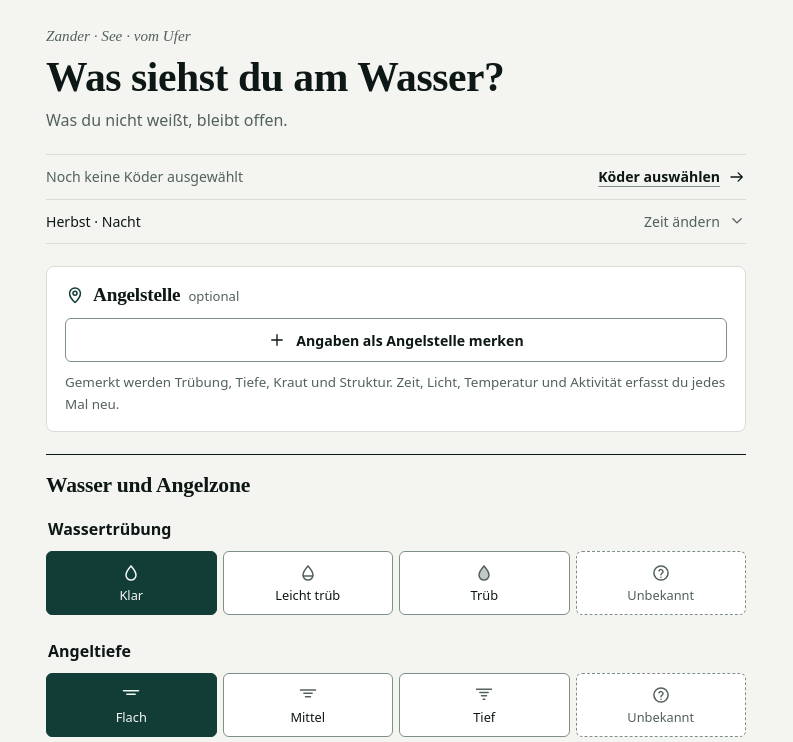
it: Geführter Angelplan › führt ohne Bestand von den Bedingungen zur passenden Köderauswahl und erhält den Entwurf
This screenshot has width=793, height=742.
Expected: the text "Noch keine Köder ausgewählt" is shown, [46,166,243,187]
Click the button "Tief" at point(484, 705), box [399,673,570,737]
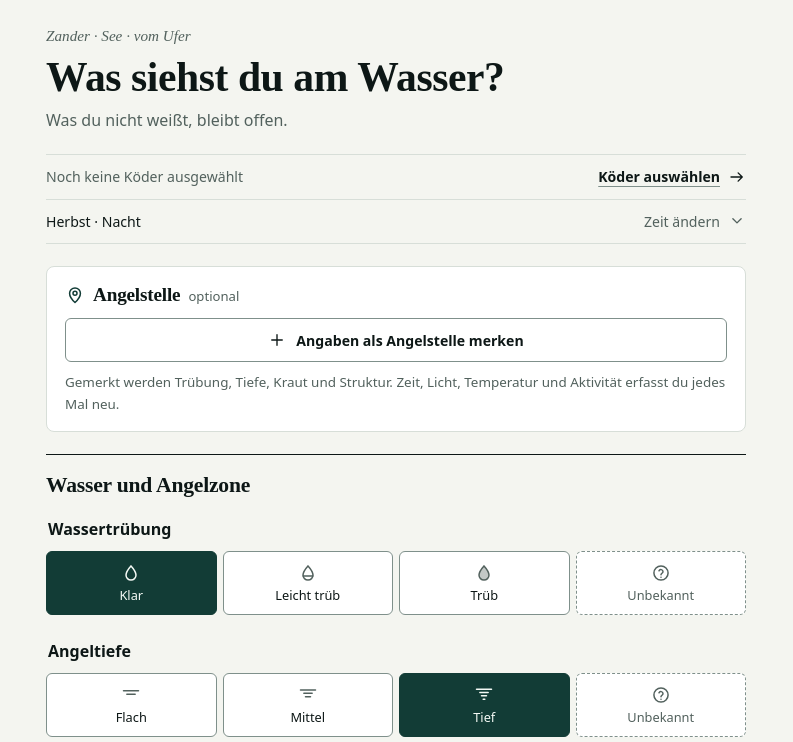
Click the link "Köder auswählen" at point(672, 177), box [598,167,746,186]
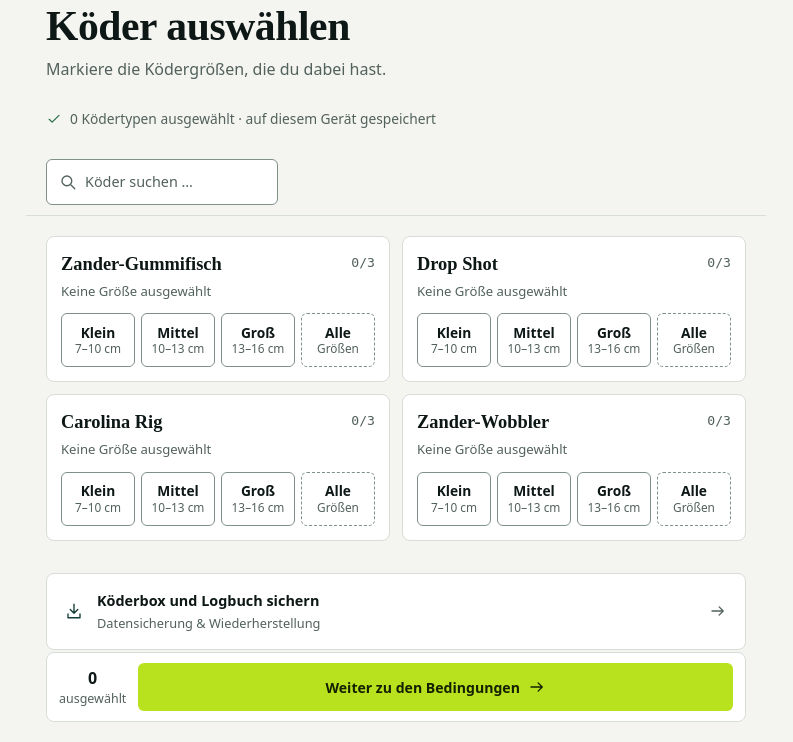
Now the element "Zander" is shown, box [46,236,746,541]
Click the button with aria-label "Zander Zander-Gummifisch: Mittel · 10–13 cm" at point(178, 340), box [141,313,215,367]
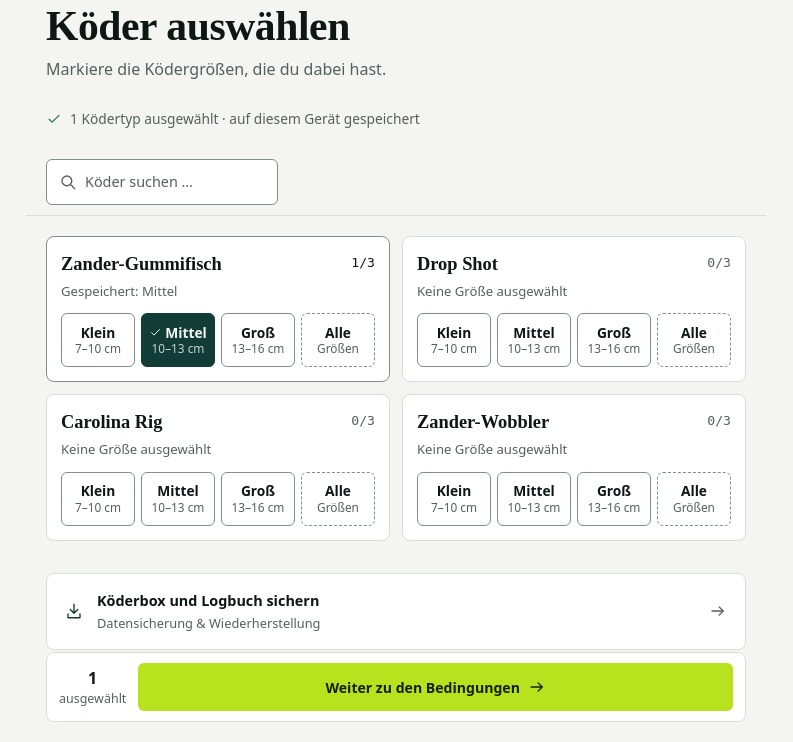
Click the link "Weiter zu den Bedingungen" at point(436, 687), box [138,663,733,711]
(page scrolled)
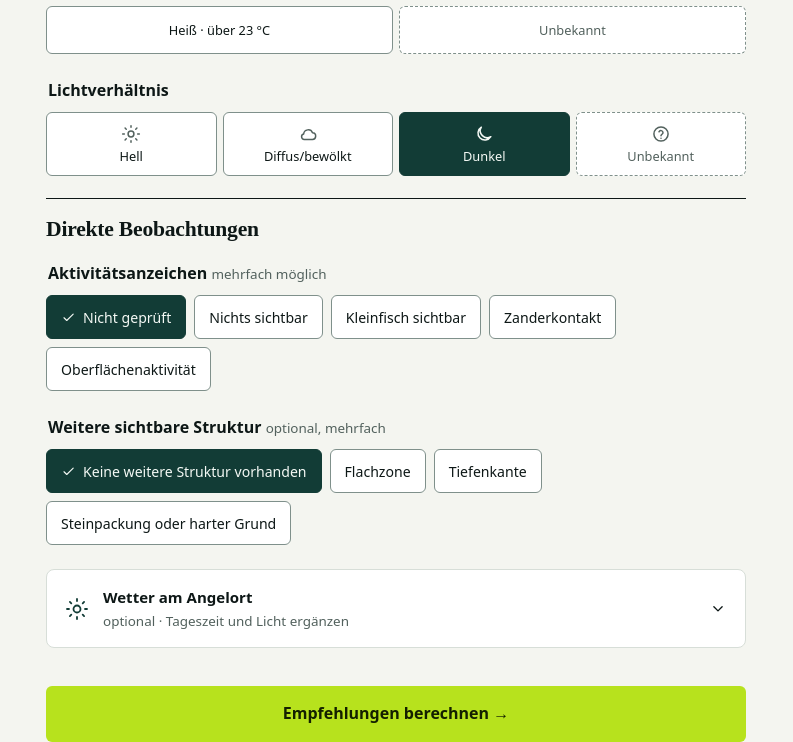
Click the button "Empfehlungen berechnen →" at point(396, 714), box [46,686,746,741]
(page scrolled)
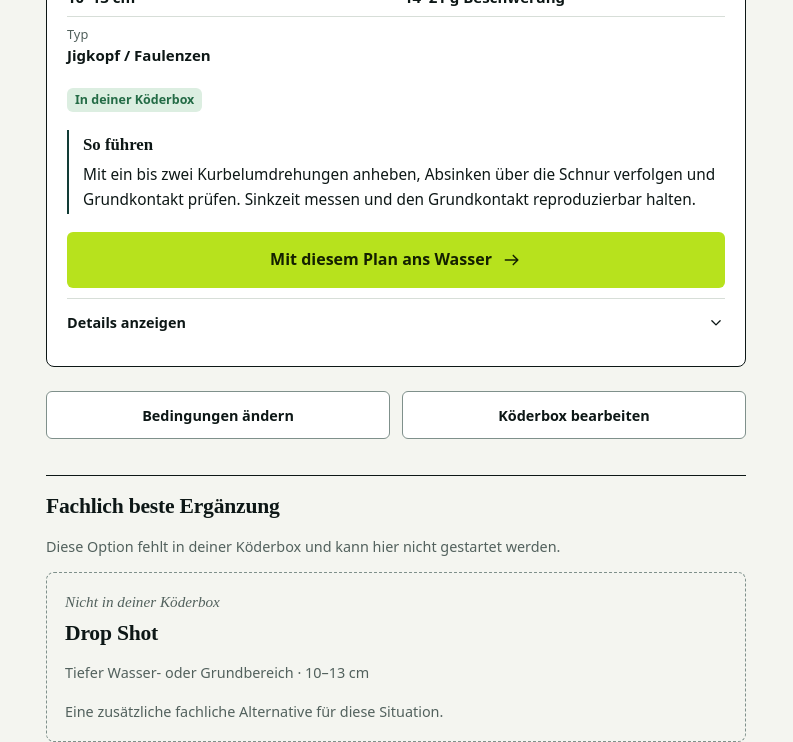
Click the button "Mit diesem Plan ans Wasser" at point(396, 260), box [67,232,725,288]
(page scrolled)
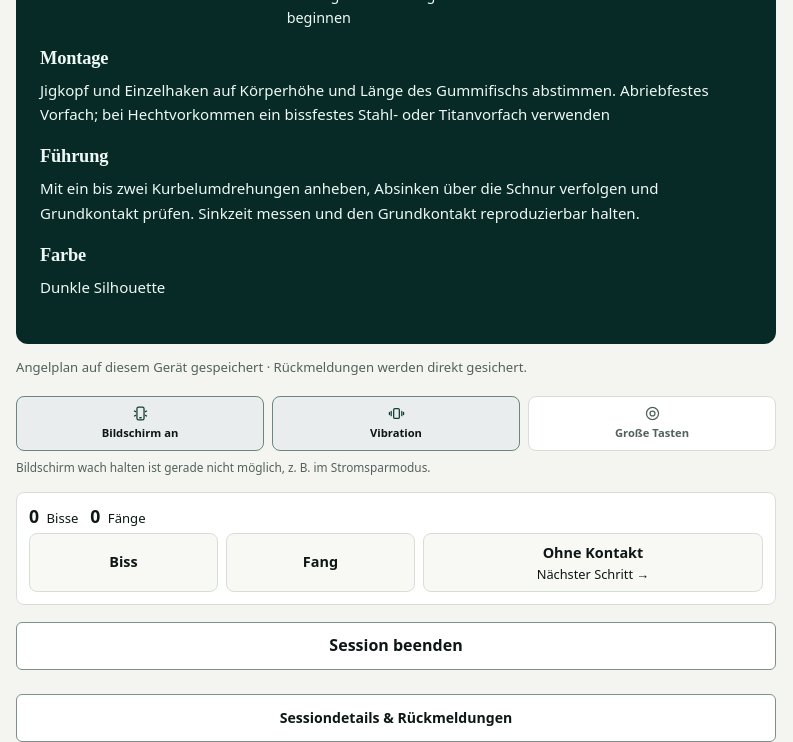
Now the element named "Rückmeldung erfassen" is shown, box [29,533,763,593]
